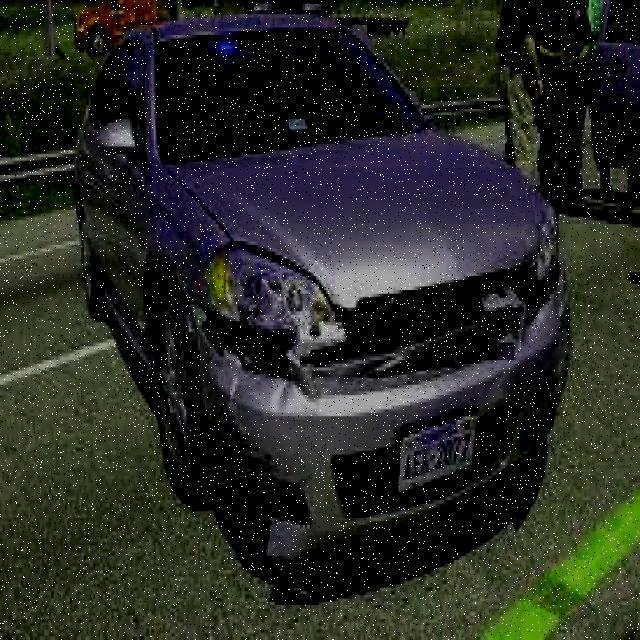car damage: (188, 268, 563, 400), (217, 415, 316, 569)
